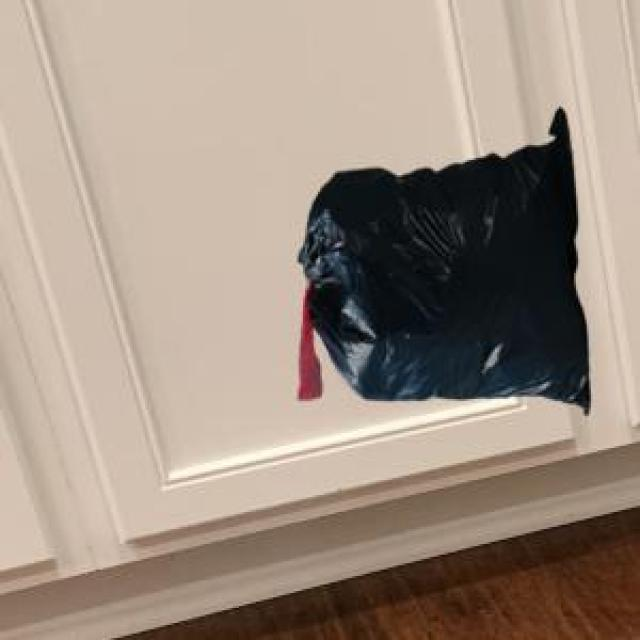miscellaneous trash: (294, 105, 584, 410)
